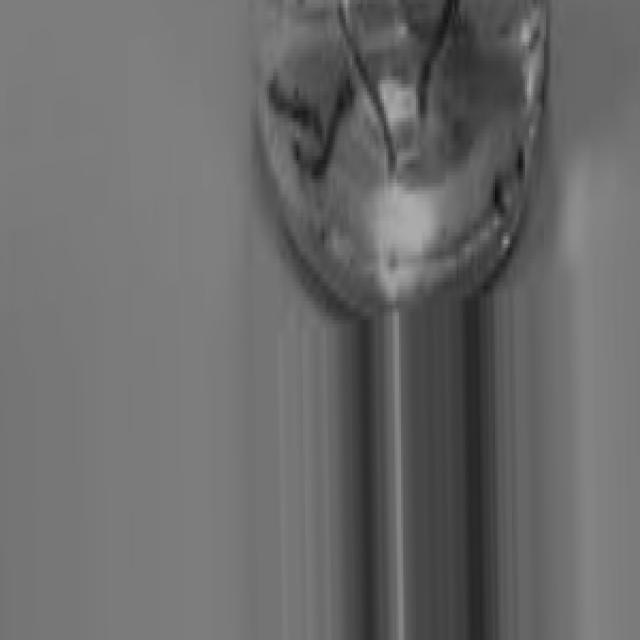larvas: (336, 7, 402, 177), (306, 75, 360, 188), (415, 0, 454, 114), (265, 79, 320, 135)
